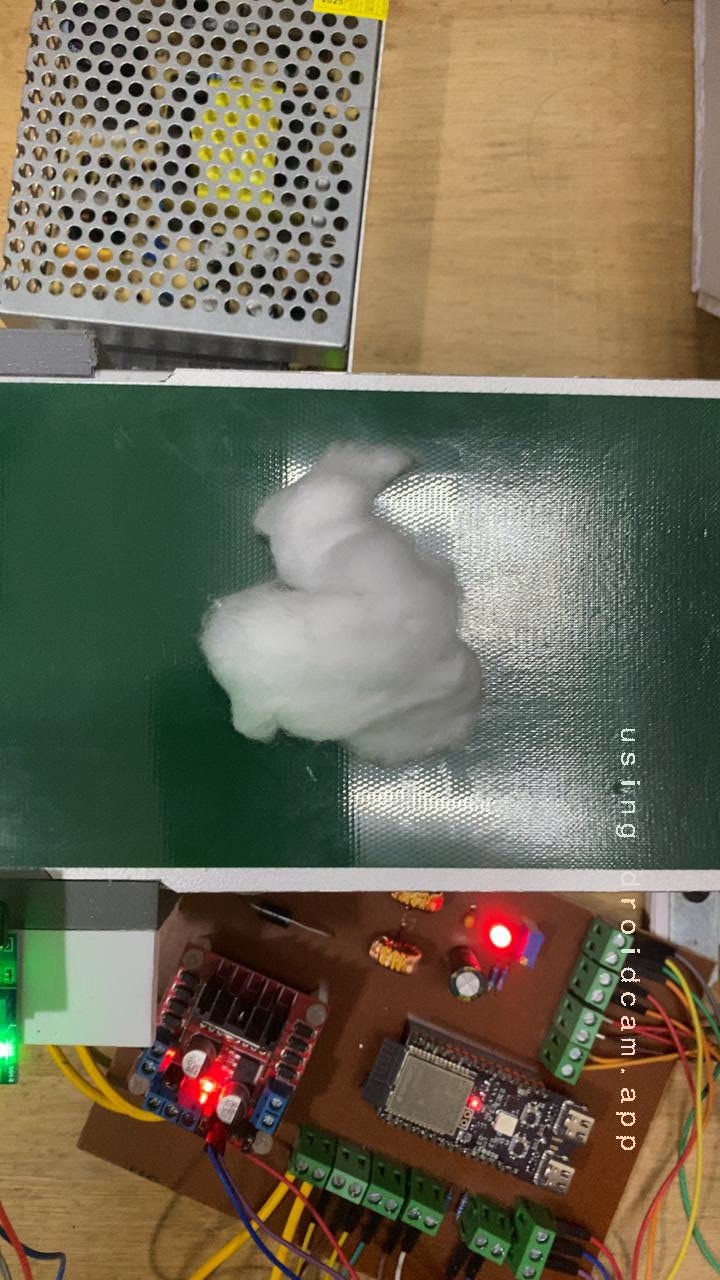cotton: (166, 419, 524, 789)
